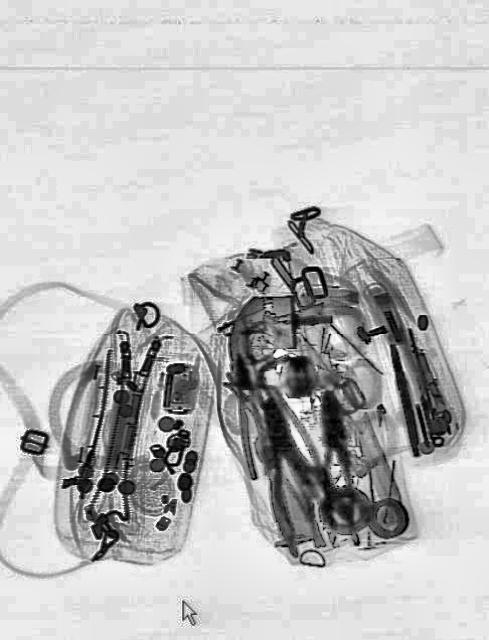Pliers: (241, 422, 327, 564), (217, 348, 280, 484), (310, 388, 359, 548)
